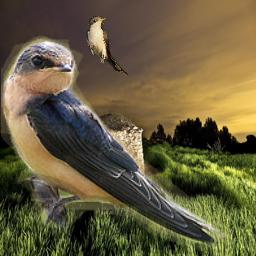Cuckoo: (86, 16, 129, 78)
Swallow: (1, 29, 238, 256)
